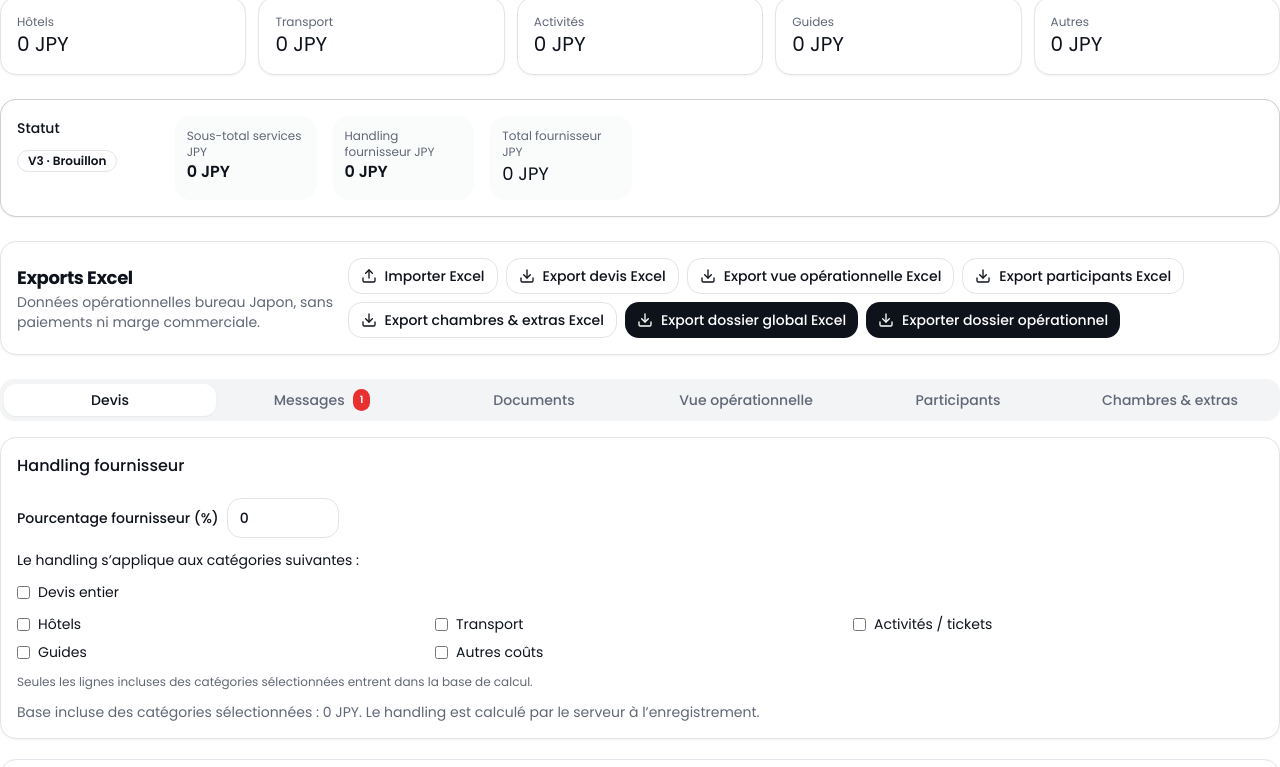
Scenario: existing Messages/Documents backend integration › surfaces trip_documents query errors without displaying a false empty result
(page scrolled)
Press the mouse on the tab "Documents" at (534, 400), box [428, 384, 640, 416]
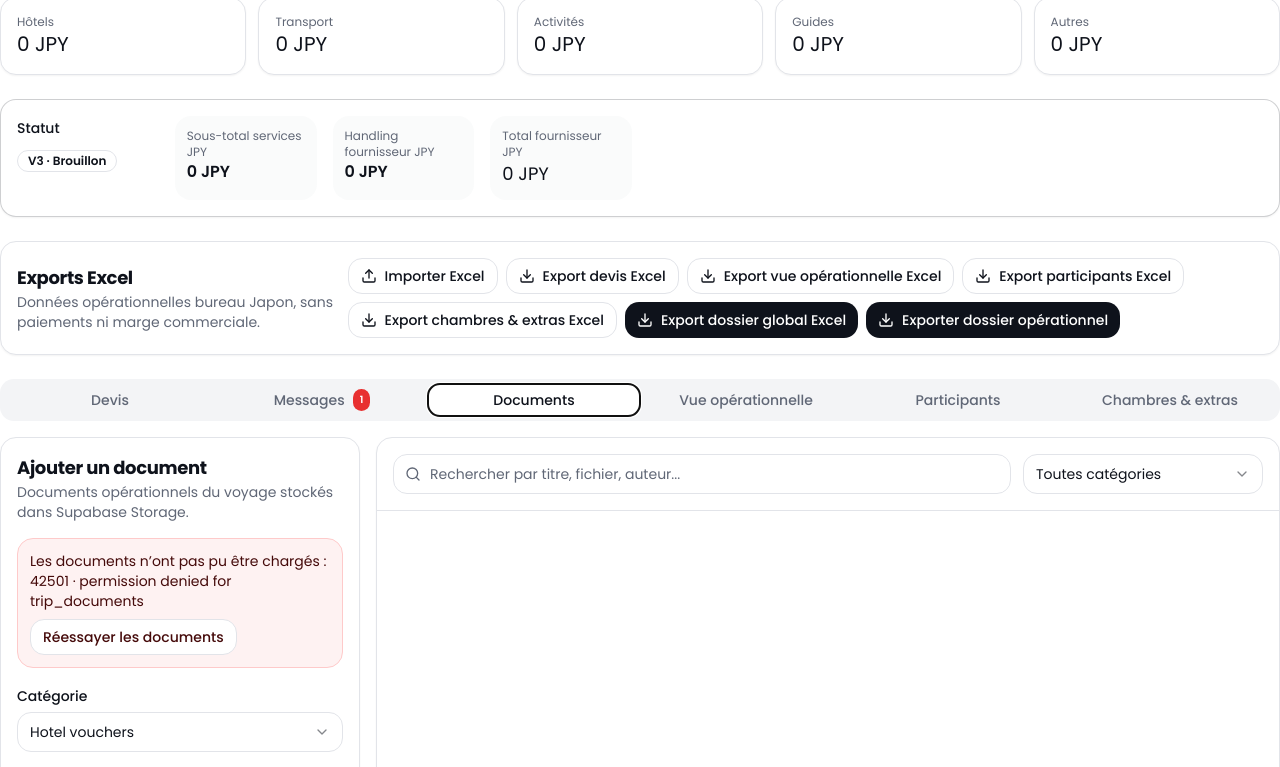
Check: the message shows "42501", box [30, 571, 232, 611]
Check: the message shows "trip_documents", box [30, 571, 232, 611]
